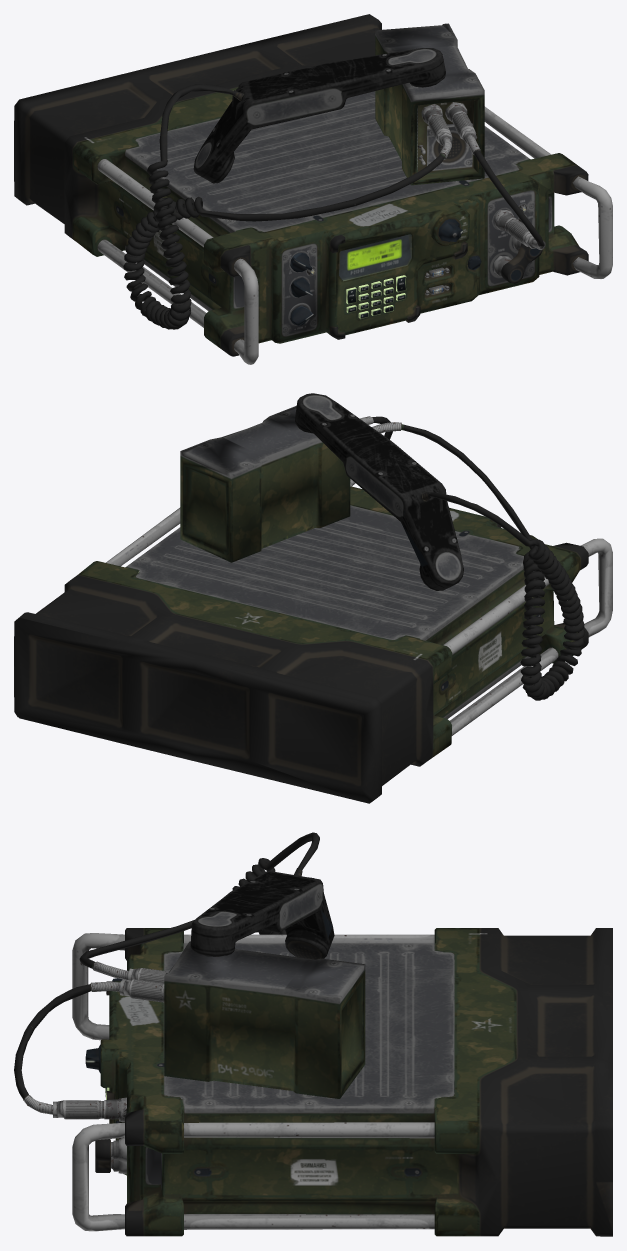
File: ip_radio.glb
The picture shows the model from 3 angles, top to bottom: view 1: azimuth 30°, elevation 25°; view 2: azimuth 150°, elevation 25°; view 3: azimuth 270°, elevation 25°; orthographic projection. The views are drawn at different scales.
Visible parts, largest first — view 1: O_ip_radio__Body; view 2: O_ip_radio__Body; view 3: O_ip_radio__Body.
Boxes of the visible parts, bbox=[...] form: O_ip_radio__Body: bbox=[14, 14, 612, 364]; O_ip_radio__Body: bbox=[14, 393, 612, 803]; O_ip_radio__Body: bbox=[14, 832, 612, 1236].
Bounding box in the file's own units: 1.17 × 0.6359 × 1.37.
Materials: 1 (1 with a texture image).
